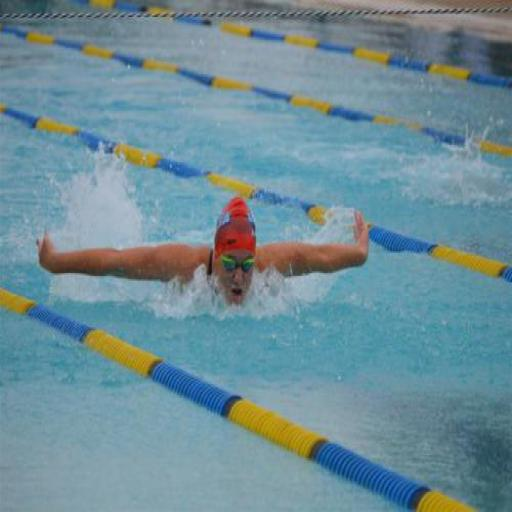swimming: (34, 194, 372, 318)
